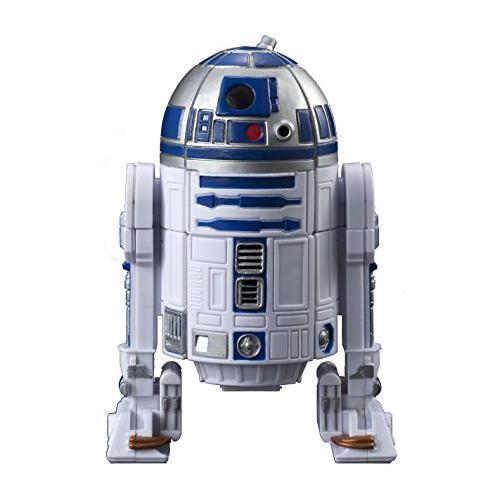r2d2: (106, 35, 397, 464)
